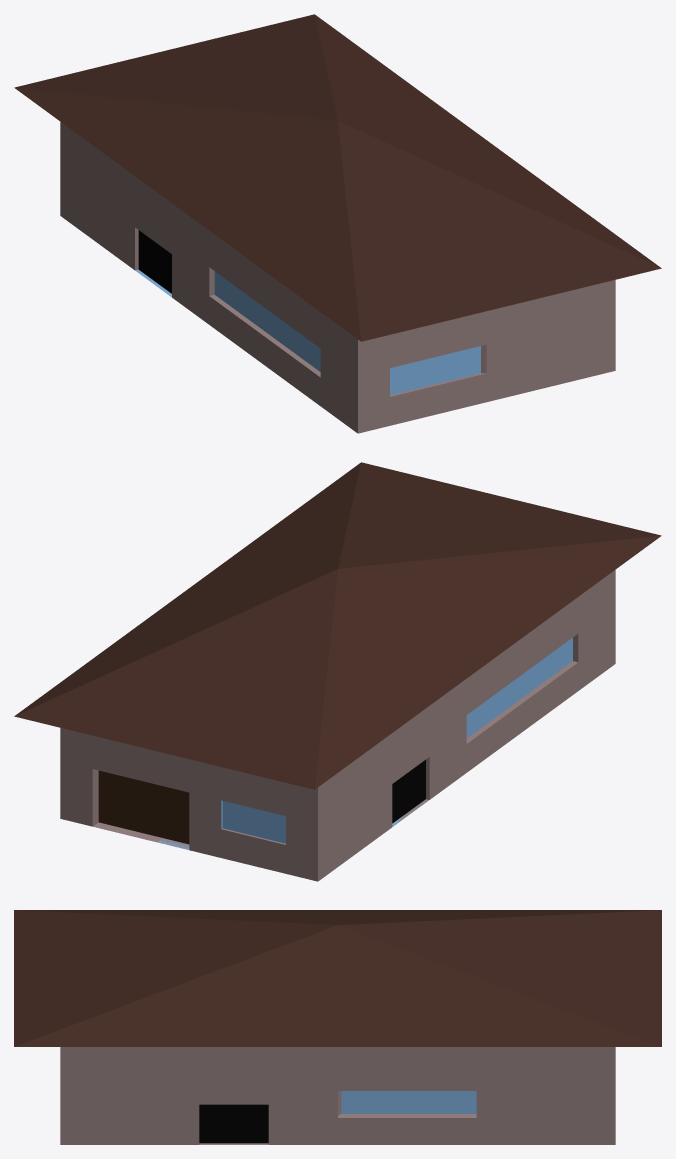
The model's file is HouseImp03Wooden.fbx.
3 renders of one model, top to bottom at view 1: azimuth 30°, elevation 25°; view 2: azimuth 150°, elevation 25°; view 3: azimuth 270°, elevation 25°, orthographic. The views are drawn at different scales.
Parts seen in each view (by area): view 1: Cube; view 2: Cube; view 3: Cube.
Part boxes in pixels (bbox=[...]): Cube: bbox=[14, 14, 661, 433]; Cube: bbox=[14, 462, 661, 881]; Cube: bbox=[14, 910, 661, 1144].
Bounding box in the file's own units: 117 × 64.03 × 234.
